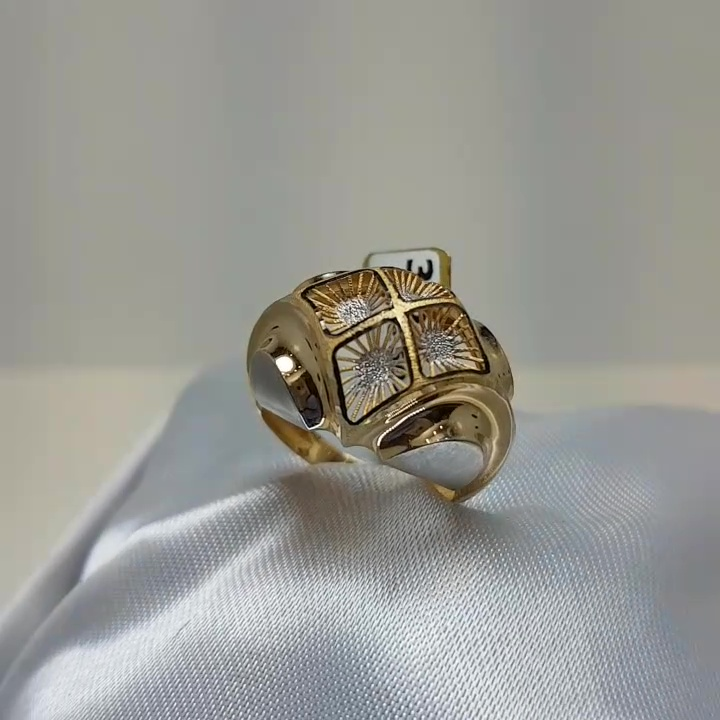Ring 2: (225, 241, 552, 527)
